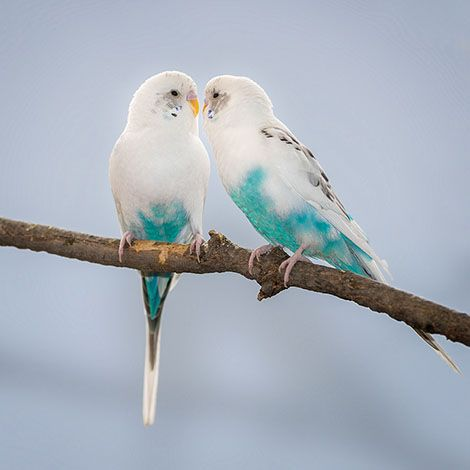budgie: (201, 71, 404, 293), (107, 68, 208, 427)
